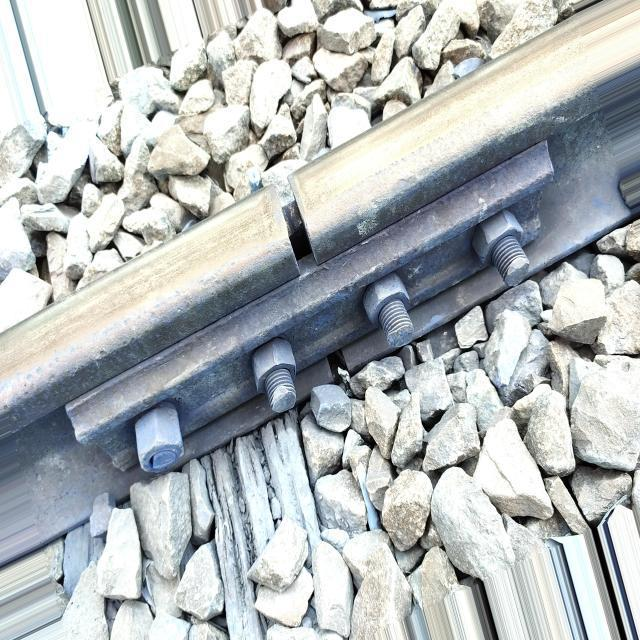squats_low: (4, 254, 248, 416), (327, 98, 520, 234)
